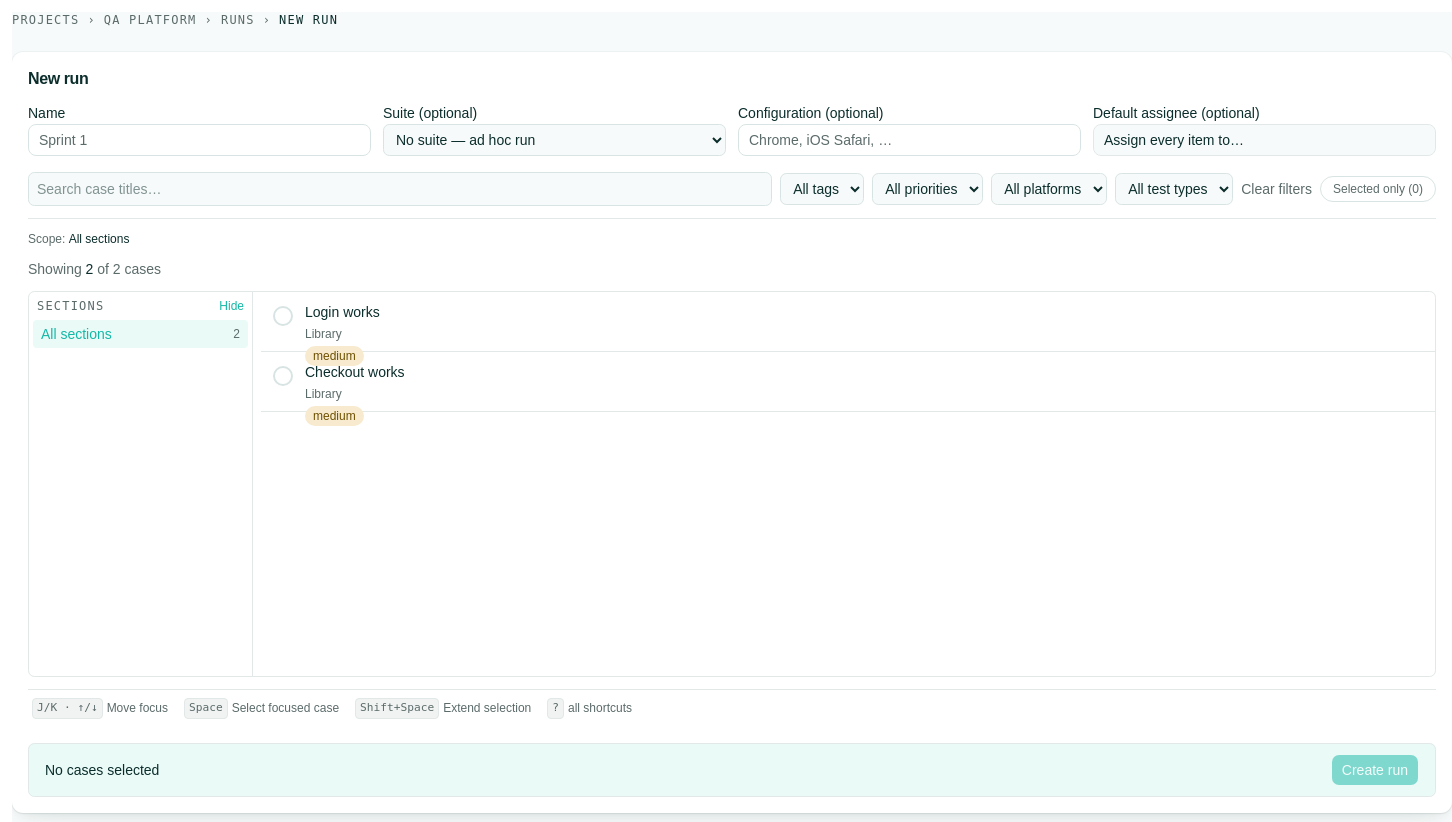
Test case: NewRunPage › switching the suite selector back to "No suite" clears the seeded selection
Select "Smoke (1 case)" in the dropdown labelled "Suite (optional)" at (554, 140), box [383,124,726,156]
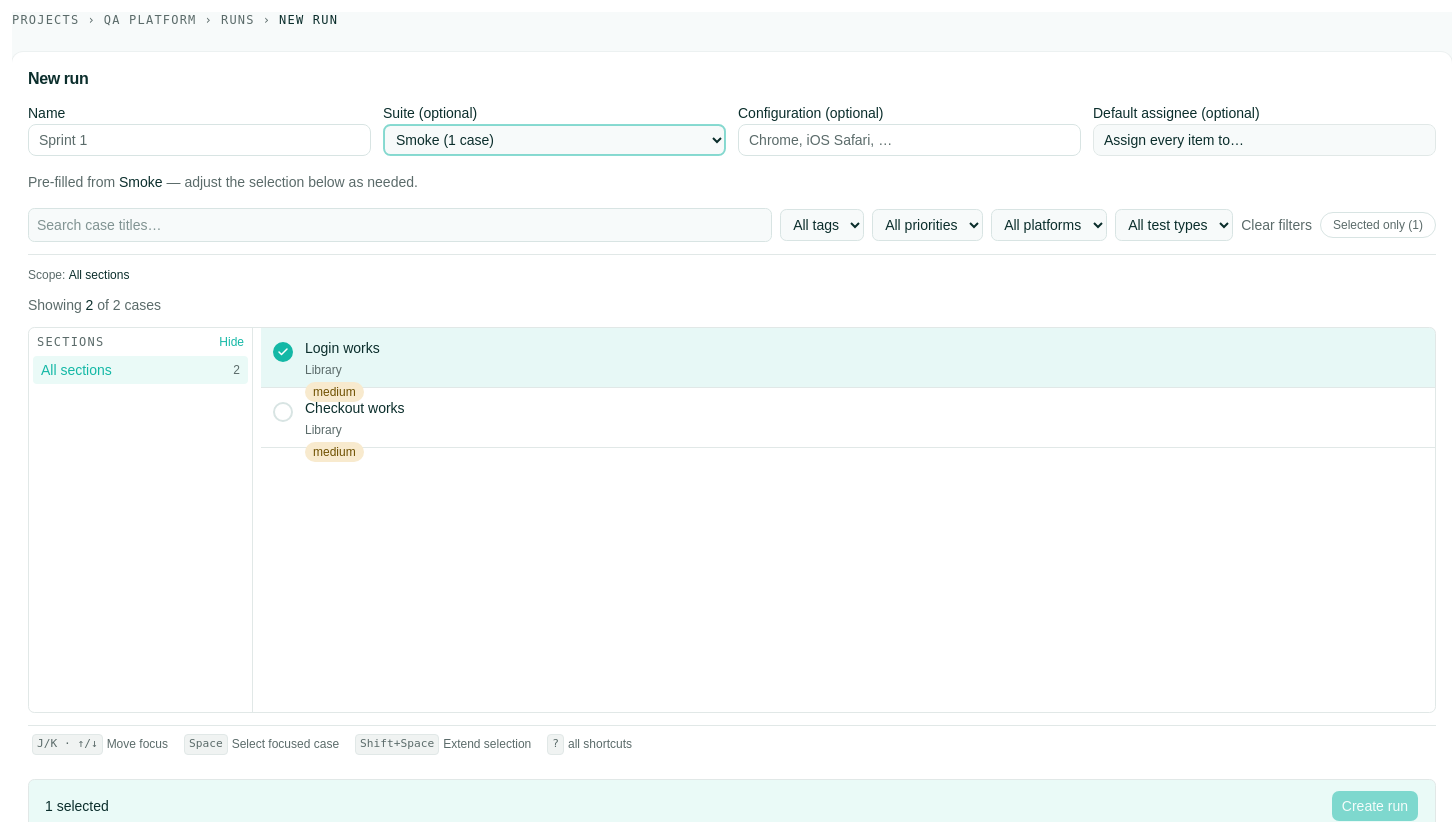
Check: the checkbox labelled "Login works Library medium" is checked, box [261,328,1435,388]
Select "No suite — ad hoc run" in the dropdown labelled "Suite (optional)" at (554, 140), box [383,124,726,156]
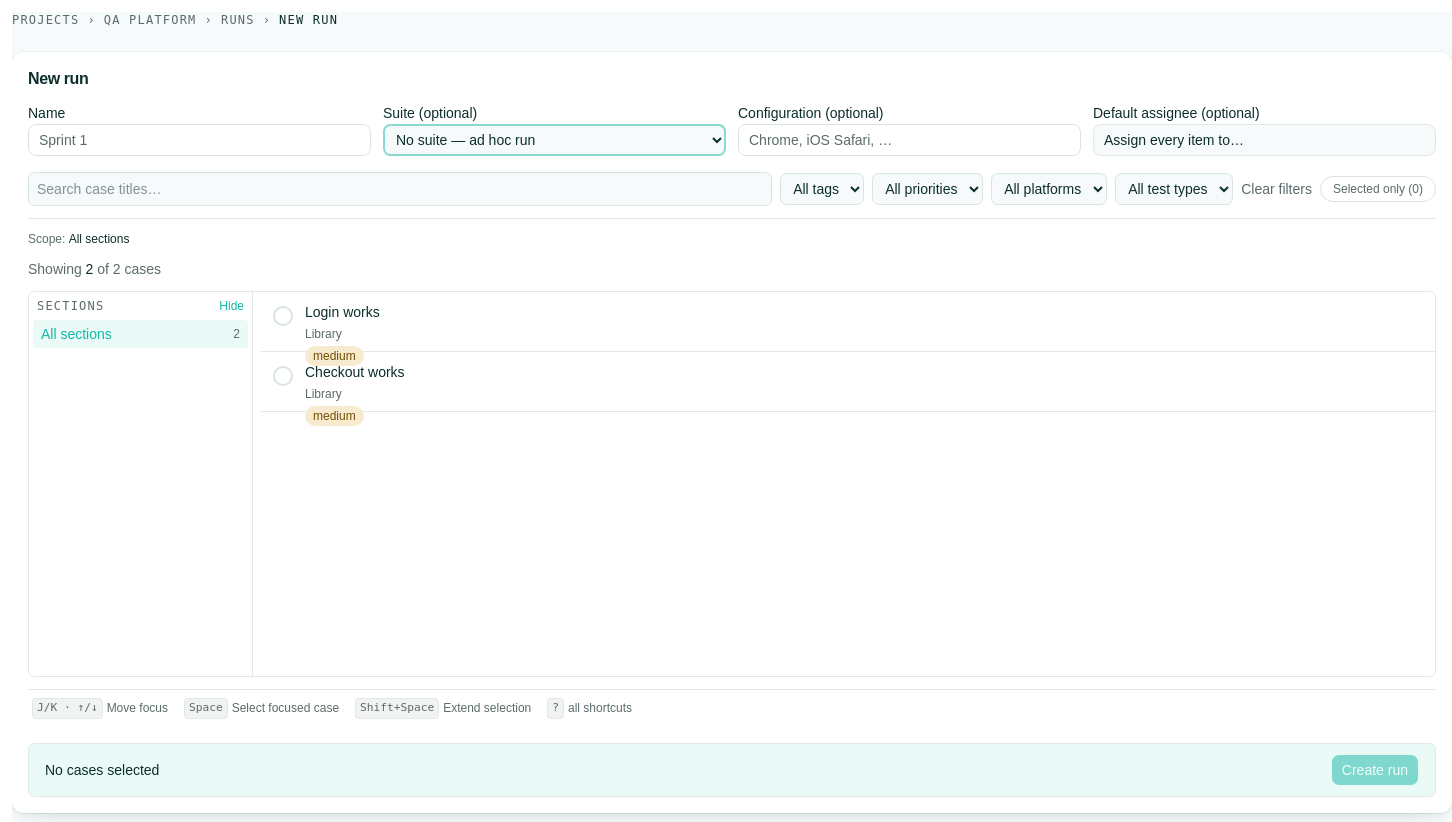
Check: the checkbox labelled "Login works Library medium" is not checked, box [261,292,1435,352]
